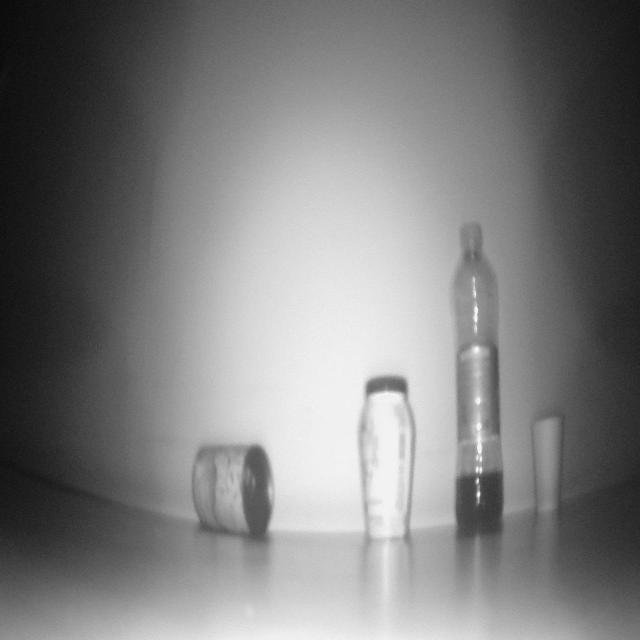targets: (452, 219, 499, 538), (362, 373, 412, 544), (194, 441, 276, 532), (536, 413, 560, 517)
